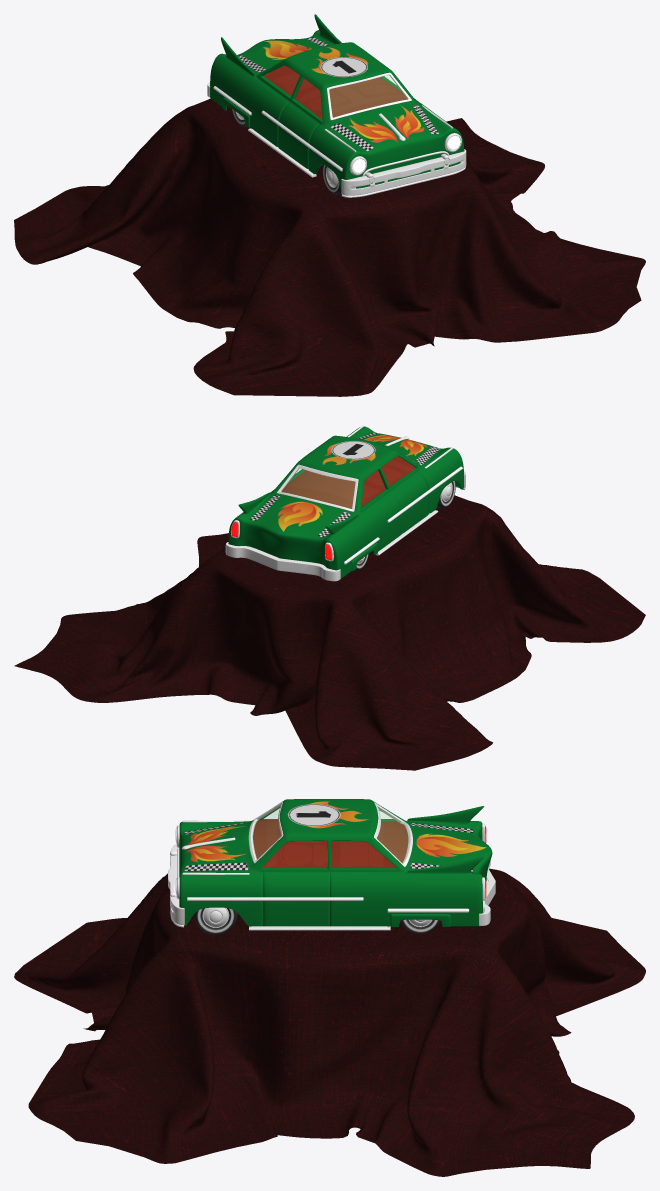
The model's file is toycar.glb.
The picture shows the model from 3 angles, top to bottom: view 1: azimuth 30°, elevation 25°; view 2: azimuth 150°, elevation 25°; view 3: azimuth 270°, elevation 25°; orthographic projection. The views are drawn at different scales.
Size of the model in its own units: 0.0734 by 0.0288 by 0.074.
Materials: 3 (2 with a texture image).
